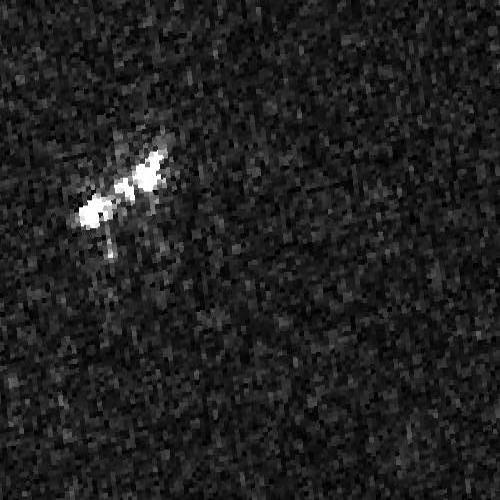ship: (75, 145, 169, 232)
